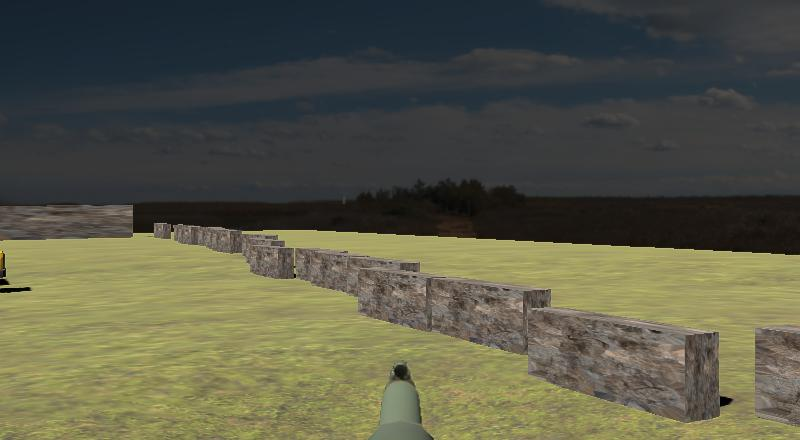car: (0, 231, 11, 295)
